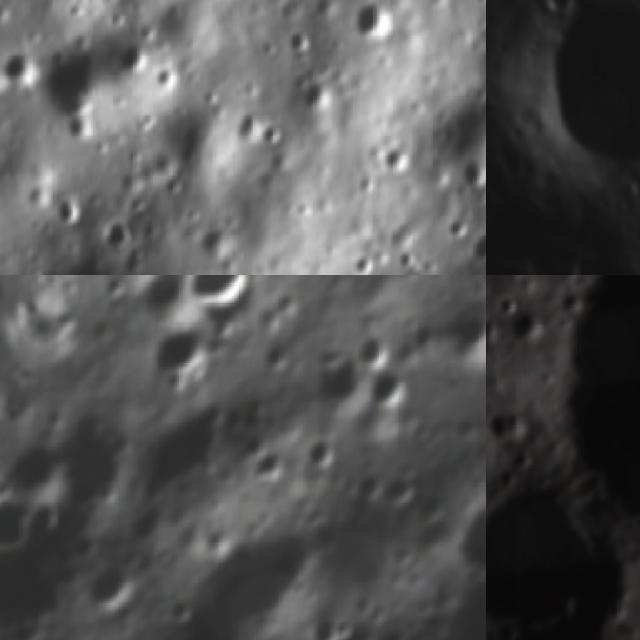crater: (545, 275, 640, 538), (182, 499, 326, 640), (528, 0, 640, 170), (486, 491, 610, 637), (316, 507, 416, 609), (138, 311, 227, 395), (438, 480, 486, 601), (35, 45, 111, 120), (75, 553, 148, 621), (178, 275, 269, 323), (361, 360, 419, 417), (0, 490, 37, 569), (346, 325, 400, 377), (248, 442, 298, 491), (375, 466, 423, 513), (446, 306, 486, 358), (234, 423, 277, 470), (486, 406, 532, 446), (161, 591, 205, 632), (353, 0, 392, 42), (304, 430, 344, 470), (0, 50, 39, 90), (352, 467, 390, 507), (301, 78, 338, 115), (508, 307, 546, 342), (567, 251, 618, 275), (218, 402, 250, 440), (117, 40, 149, 76), (98, 217, 133, 249), (492, 287, 527, 319), (51, 196, 80, 233), (330, 611, 364, 640), (457, 158, 486, 190), (19, 360, 41, 400), (442, 210, 466, 246), (486, 310, 505, 352), (259, 120, 284, 149), (395, 245, 421, 272), (351, 249, 376, 275), (154, 64, 179, 90), (287, 27, 312, 53), (464, 234, 486, 263), (537, 0, 574, 12), (623, 171, 640, 197)
